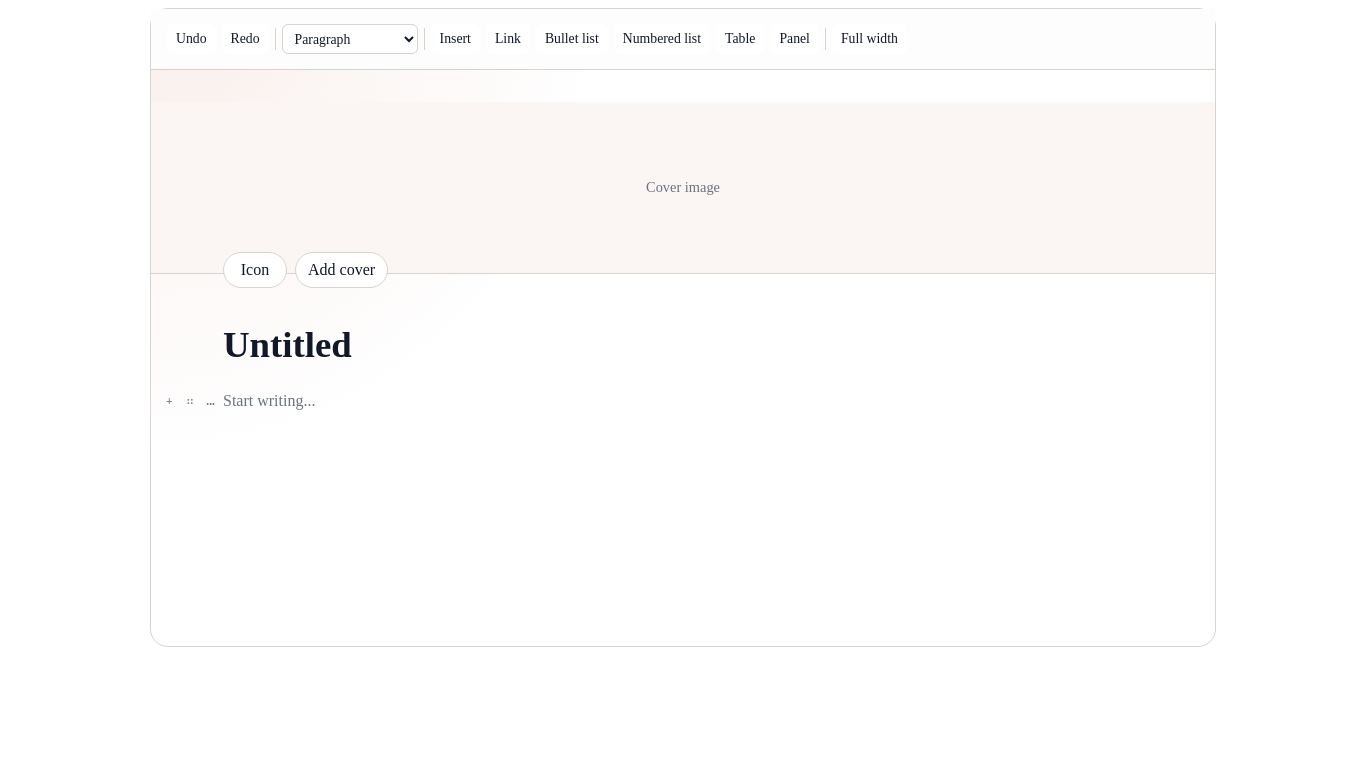
Test: StellaEditor › groups link suggestions under their headings
Click the button "Link": (508, 39) 486,24 -> 530,54
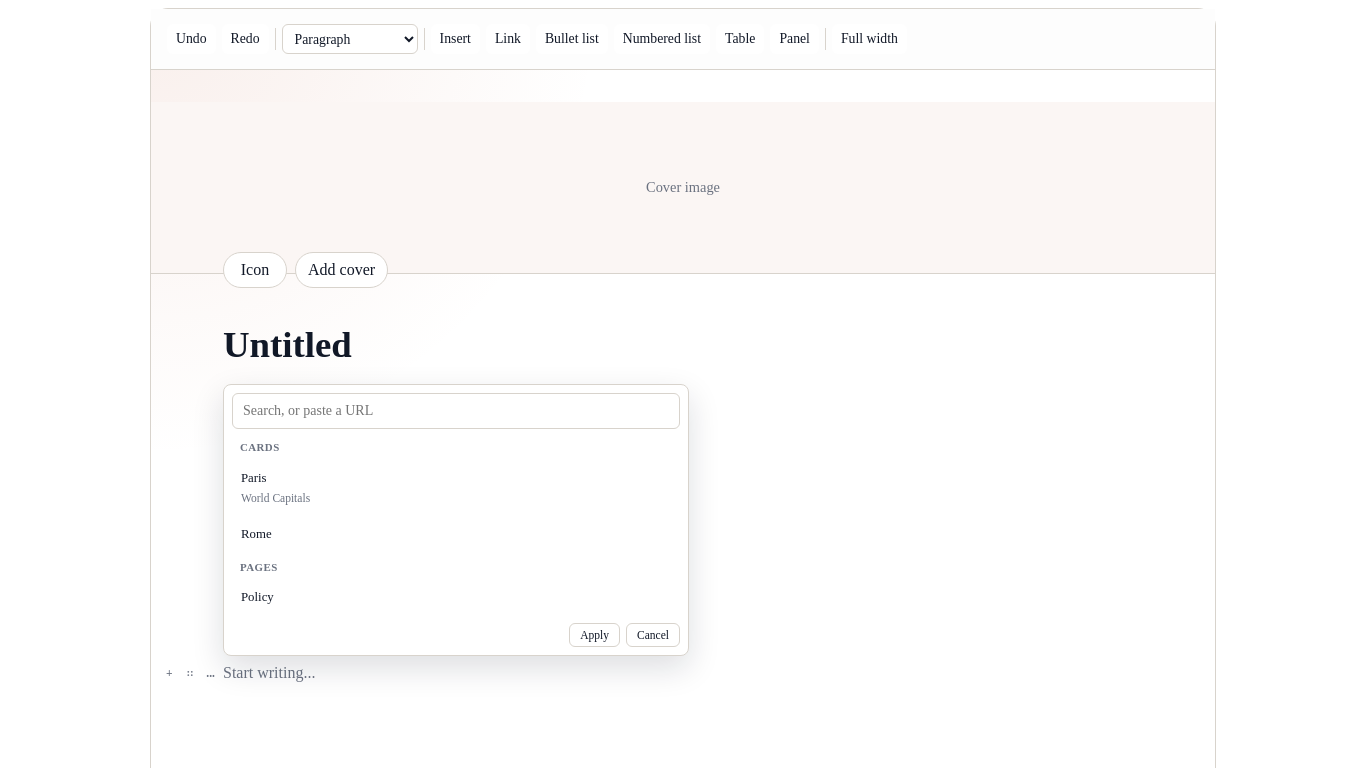
Result: the options read "ParisWorld Capitals", "Rome", in this order at 232,461 -> 680,515; 232,517 -> 680,551
Result: the option "Policy" is shown at 232,580 -> 680,615
